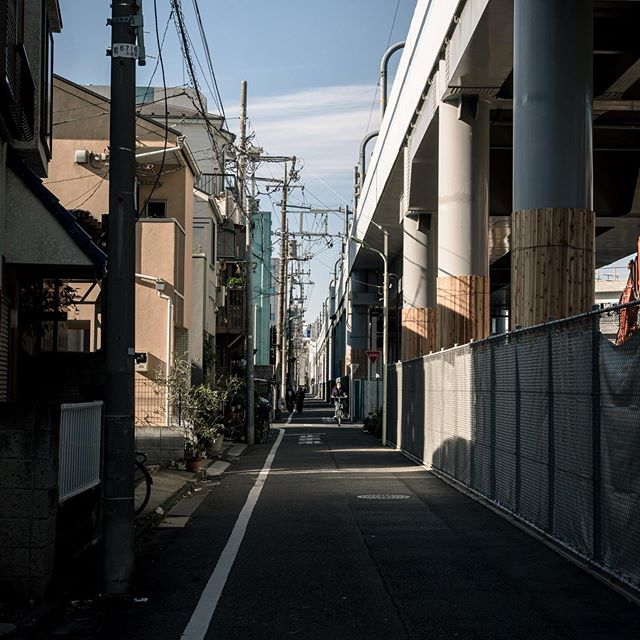building: (47, 74, 233, 453), (1, 1, 81, 640), (218, 201, 268, 415)
collumn: (502, 1, 608, 328), (430, 90, 499, 346), (393, 206, 438, 358)
street: (157, 416, 604, 640)
